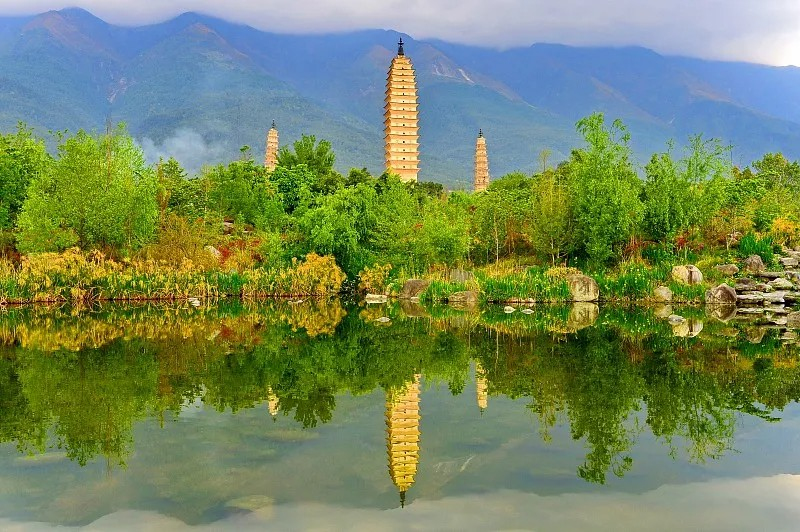ThreePagoda: (384, 36, 421, 183)
